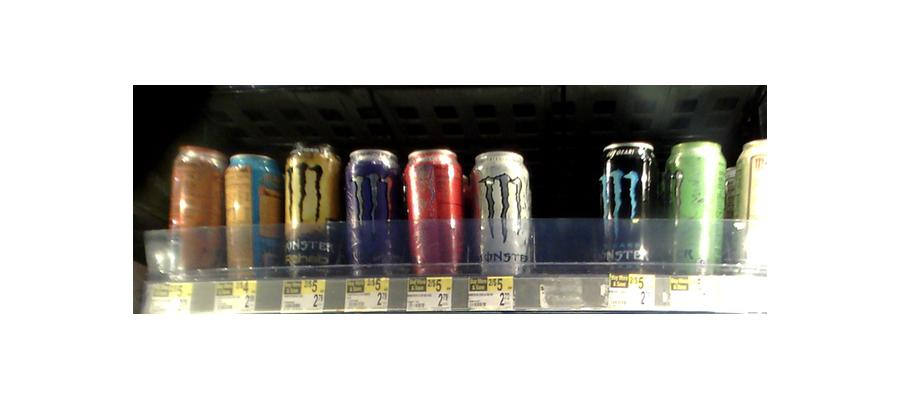bottle: (667, 143, 727, 278), (164, 142, 222, 280), (282, 141, 340, 276), (472, 150, 532, 280), (405, 148, 465, 277), (598, 140, 658, 265), (223, 151, 279, 281), (345, 148, 401, 277), (736, 132, 776, 270)
